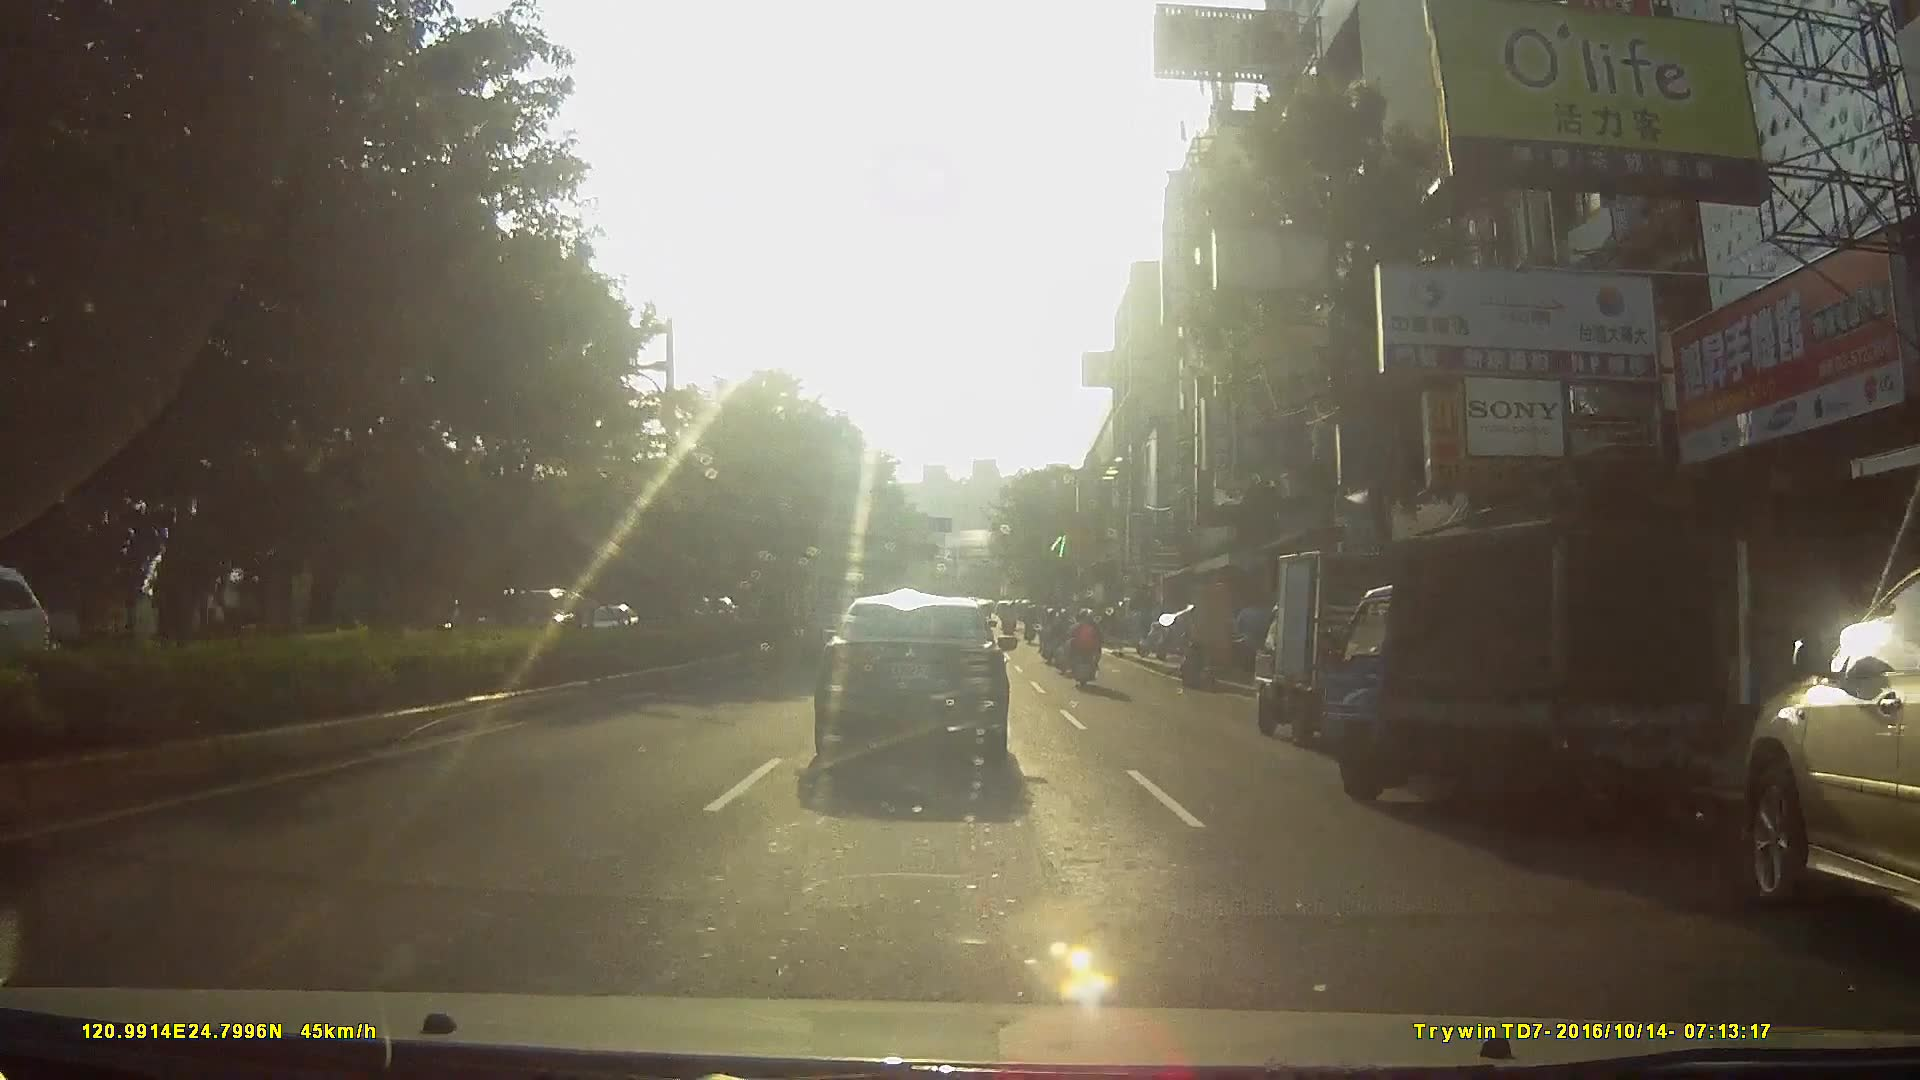rider: (1062, 607, 1105, 694), (1041, 606, 1061, 663)
vehicle: (1321, 497, 1770, 844), (1724, 575, 1920, 954), (1242, 536, 1482, 754), (812, 588, 1032, 781)
